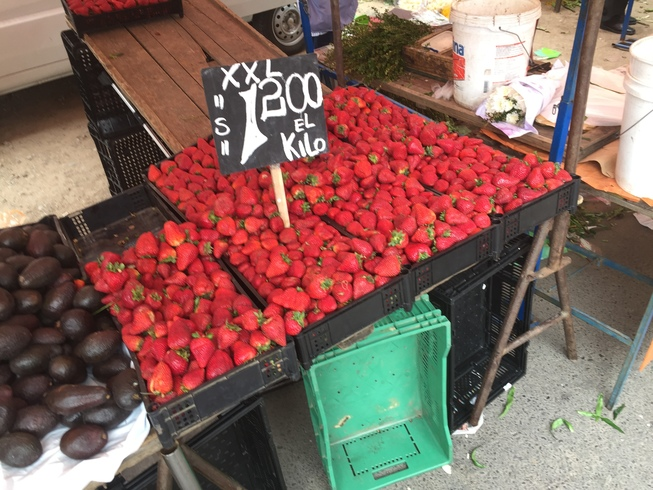precio: (197, 53, 347, 179)
